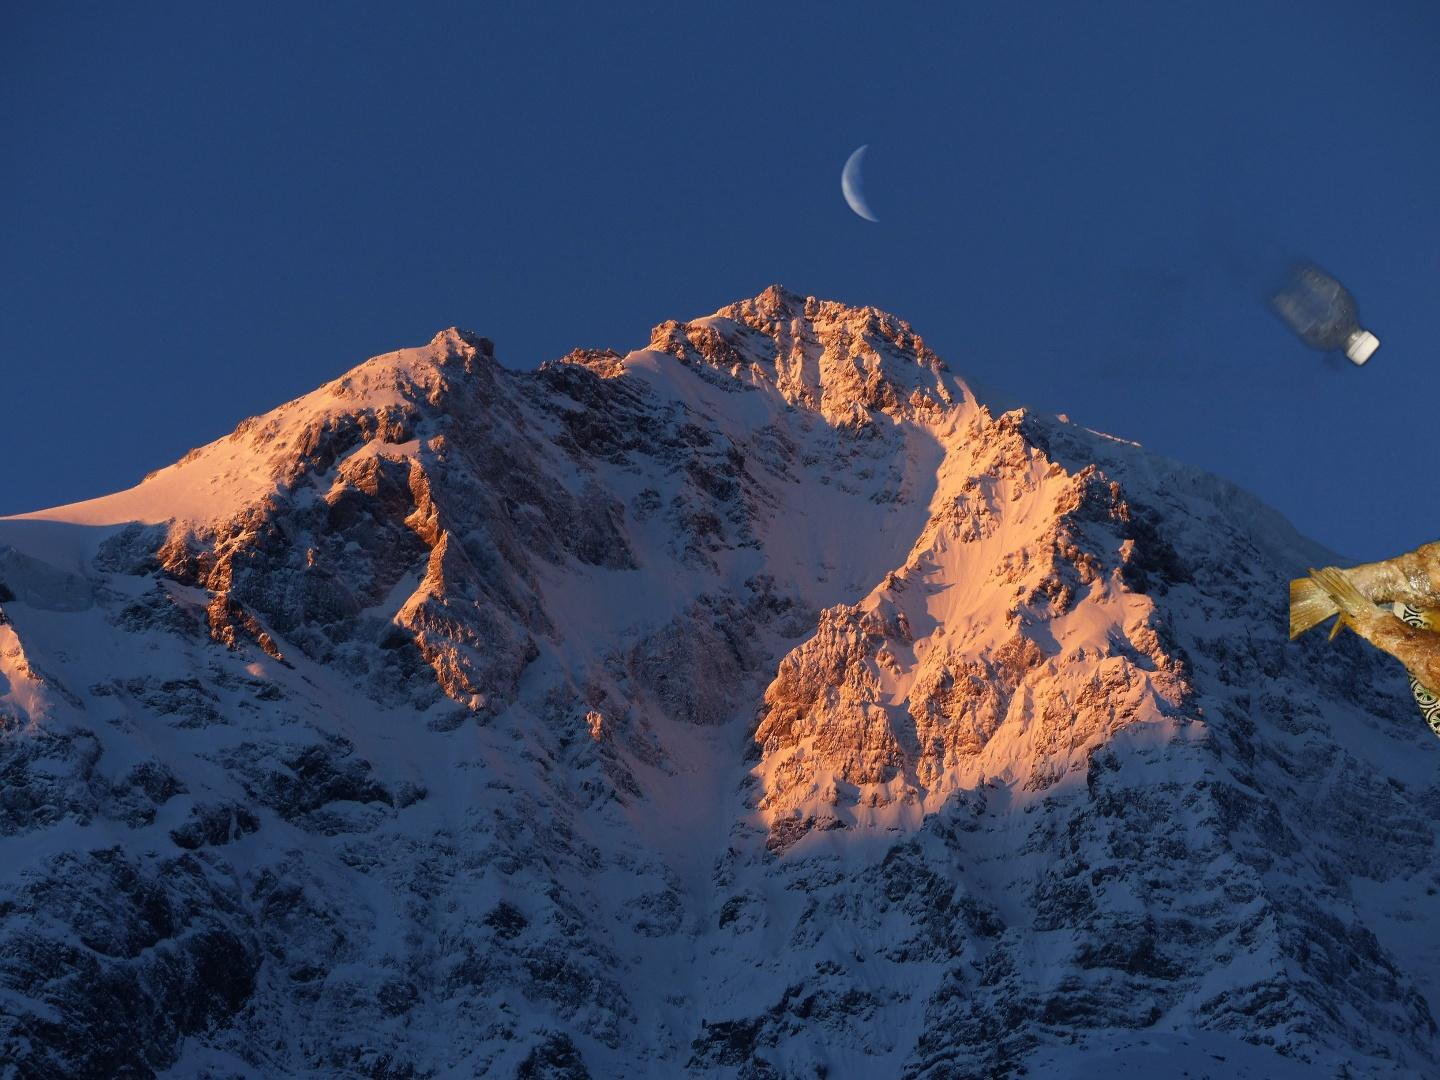biological: (1290, 449, 1440, 822)
plastic-bottles: (1051, 103, 1440, 697)
